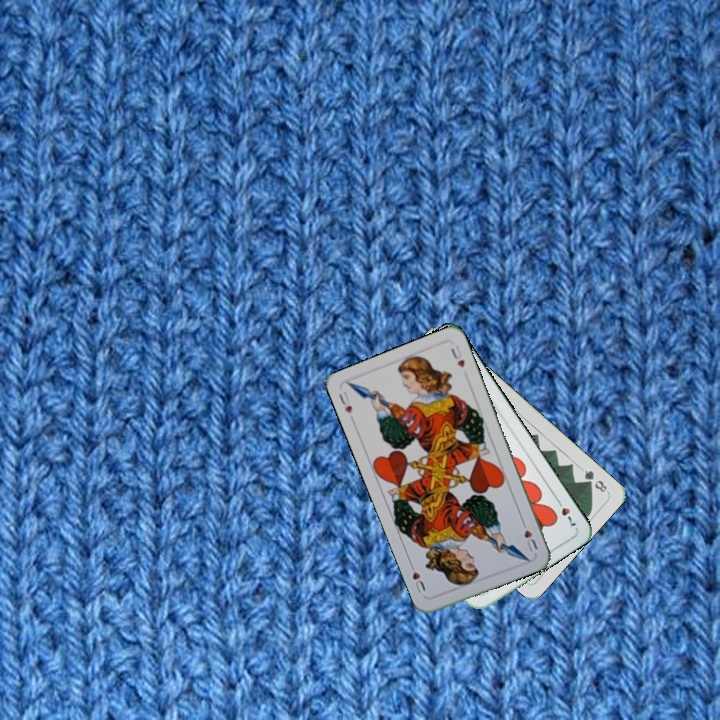G8: (580, 466, 610, 495)
H7: (552, 494, 579, 531)
HU: (517, 516, 540, 555), (335, 388, 355, 416)
